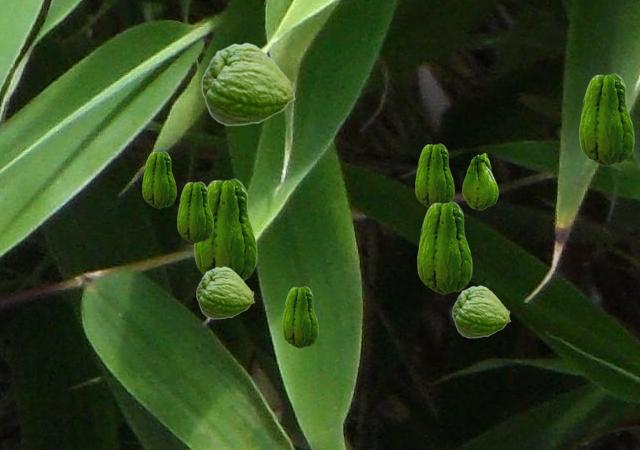sayote: (201, 42, 295, 125), (194, 178, 256, 280), (579, 73, 633, 165), (417, 201, 471, 293), (196, 266, 254, 318), (452, 285, 510, 337), (415, 143, 453, 207), (177, 181, 212, 242), (282, 286, 317, 347), (462, 153, 497, 209), (142, 151, 175, 207)
